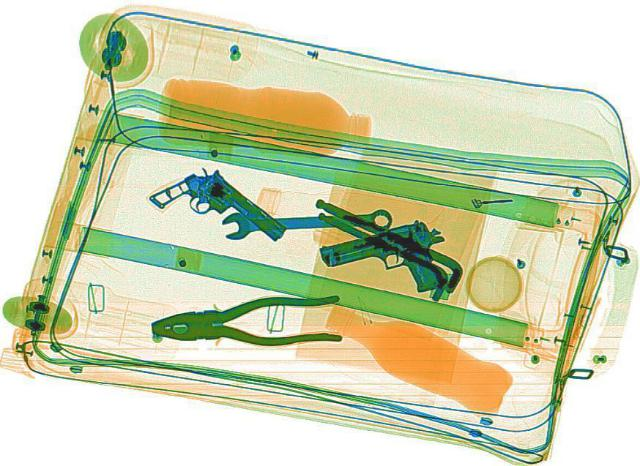Gun: (142, 161, 294, 265), (315, 216, 465, 308)
Pliers: (146, 292, 344, 351)
Wrench: (218, 201, 392, 237)
